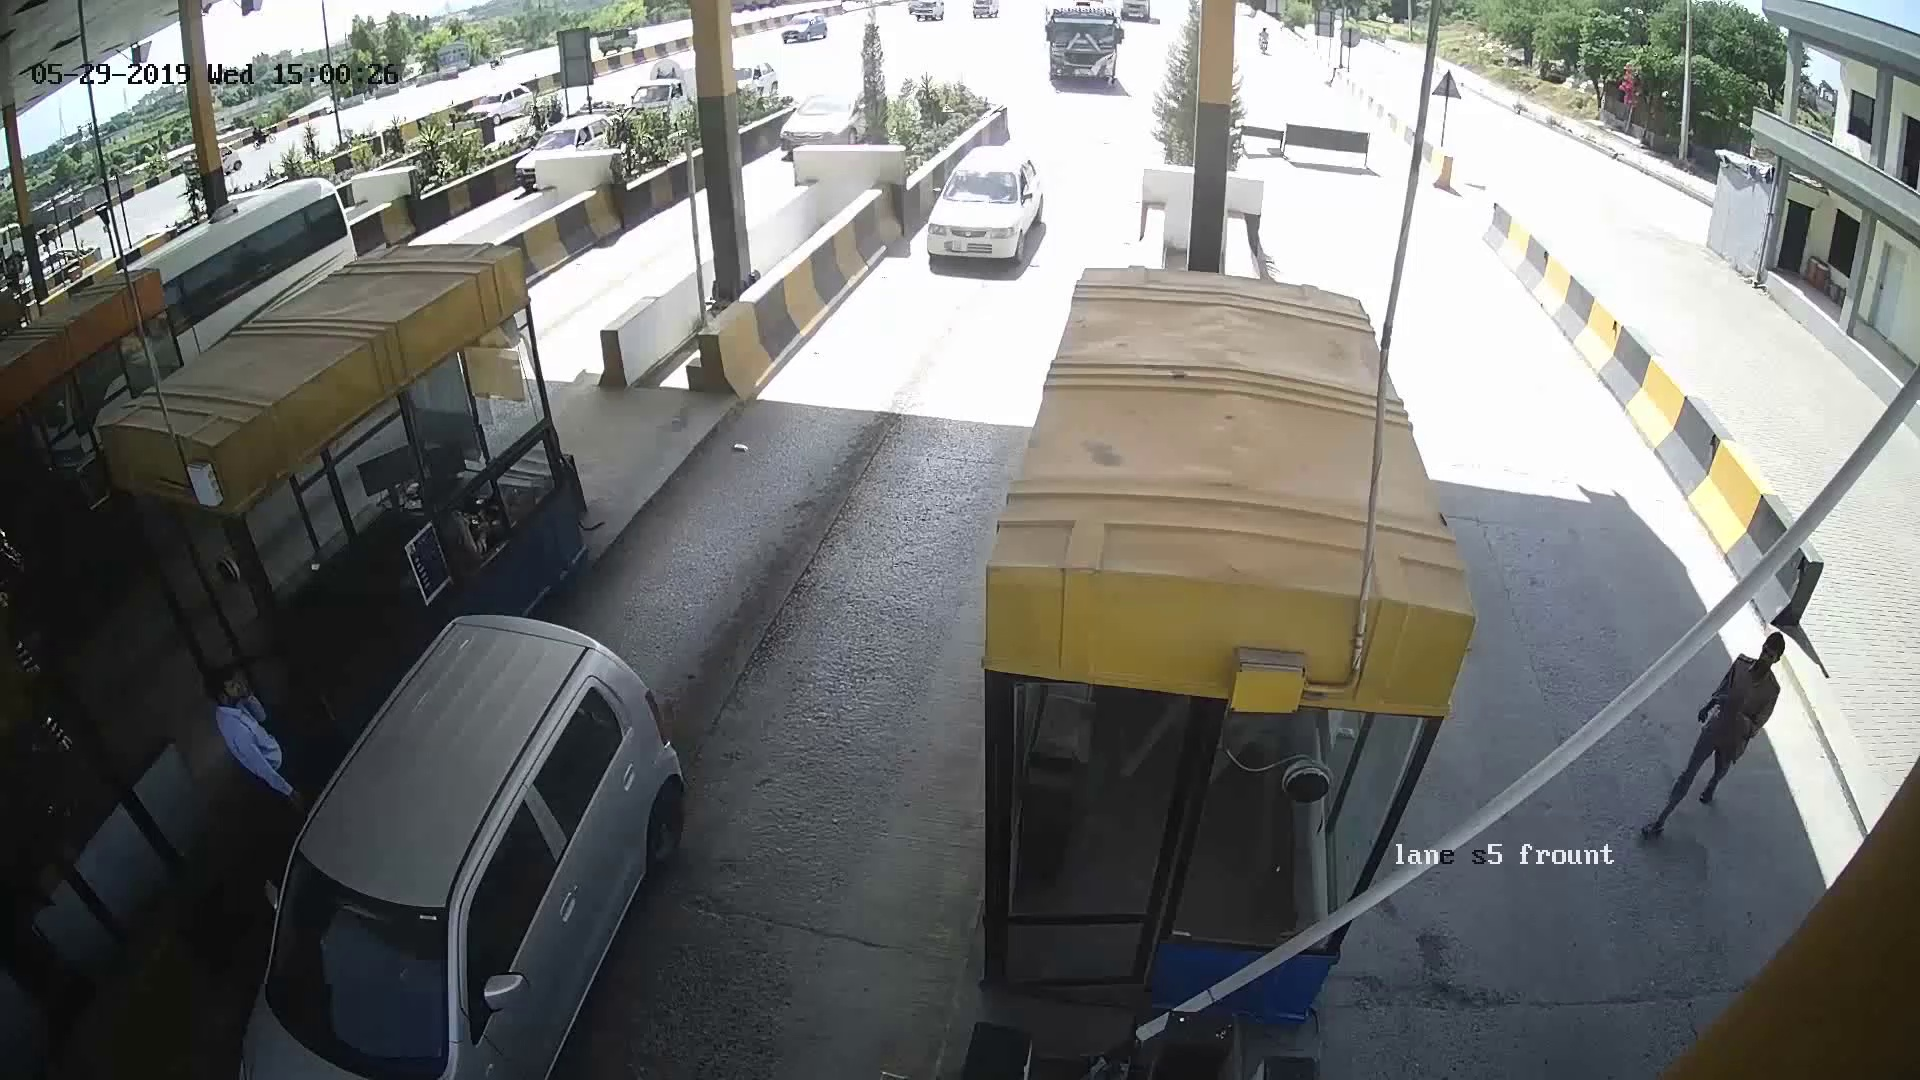car: (255, 680, 665, 1062), (932, 145, 1062, 274)
